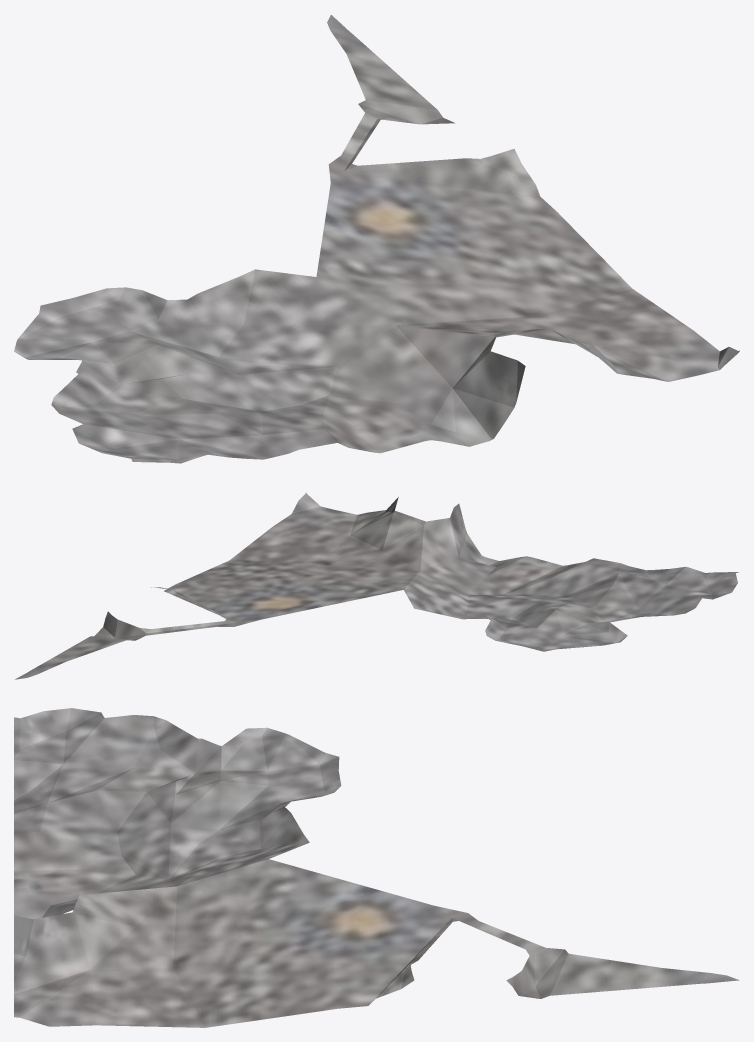
3 renders of one model, top to bottom at view 1: azimuth 30°, elevation 25°; view 2: azimuth 150°, elevation 25°; view 3: azimuth 270°, elevation 25°, orthographic. The views are drawn at different scales.
Bounding box in the file's own units: 0.545 × 0.0555 × 0.6139.
1 material, 1 textured.
